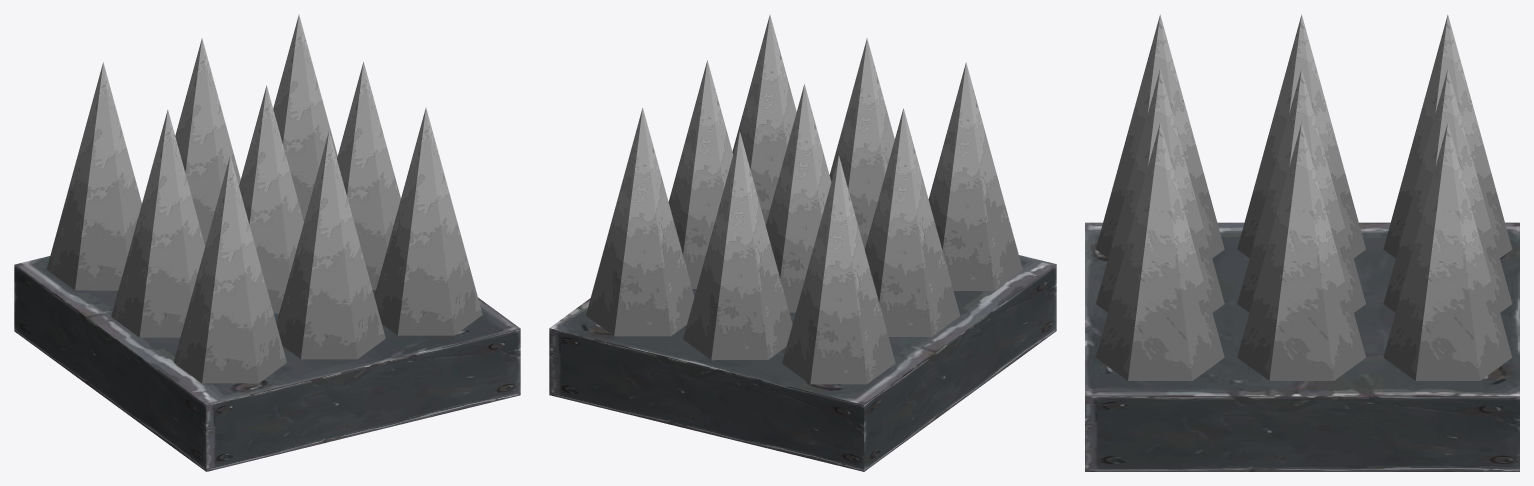
Rendered from Spikes.fbx.
3 views of the same model, side by side, from view 1: azimuth 30°, elevation 25°; view 2: azimuth 150°, elevation 25°; view 3: azimuth 270°, elevation 25° (orthographic). The views are drawn at different scales.
Visible parts, largest first — view 1: polySurface33; view 2: polySurface33; view 3: polySurface33.
Part boxes in pixels (box(x1,y1,x2,y2)): polySurface33: box(14, 14, 520, 471); polySurface33: box(549, 15, 1056, 471); polySurface33: box(1085, 14, 1519, 471).
Size of the model in its own units: 2.84 by 2.41 by 3.
1 material, 1 textured.
